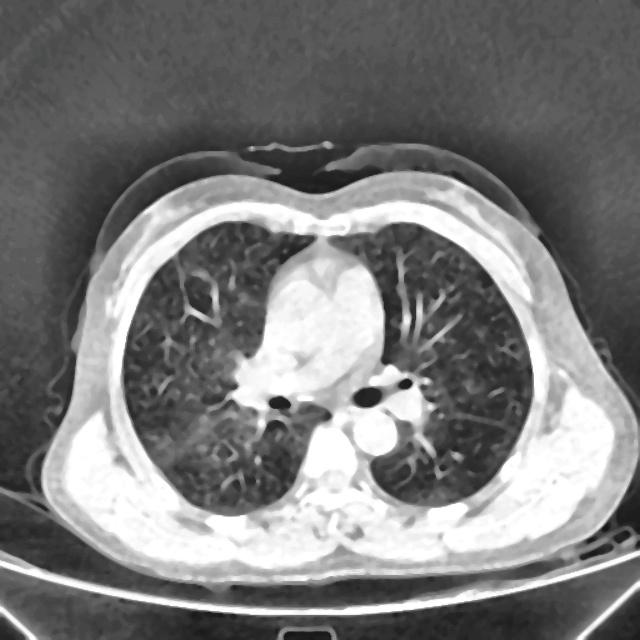covid: (38, 140, 638, 589)
